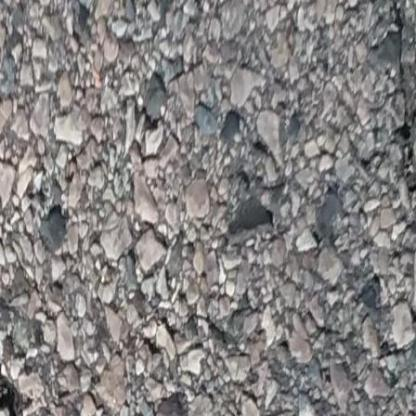Cracks: (376, 0, 416, 252)
